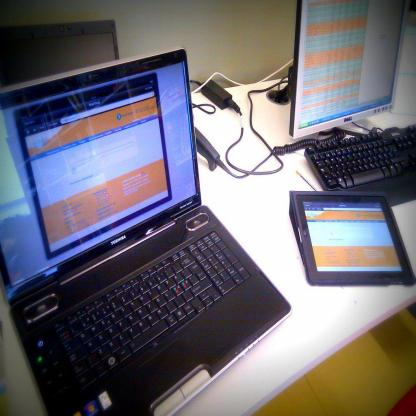board: (0, 50, 290, 415)
